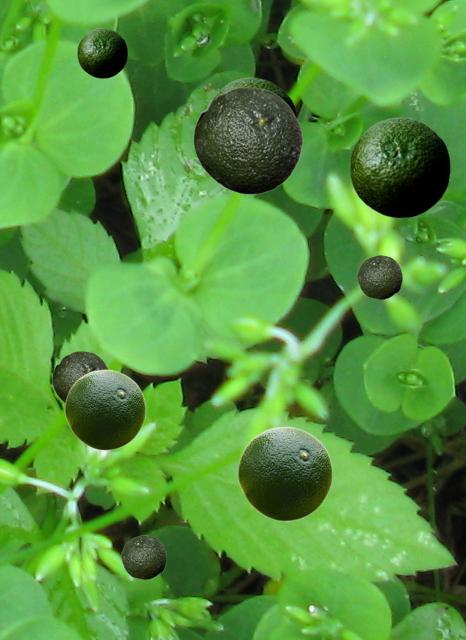calamansi: (193, 87, 302, 193), (349, 117, 449, 217), (237, 426, 332, 520), (64, 369, 145, 449), (211, 77, 296, 115), (52, 351, 108, 402), (77, 28, 126, 77), (357, 255, 401, 298), (121, 535, 165, 578)
